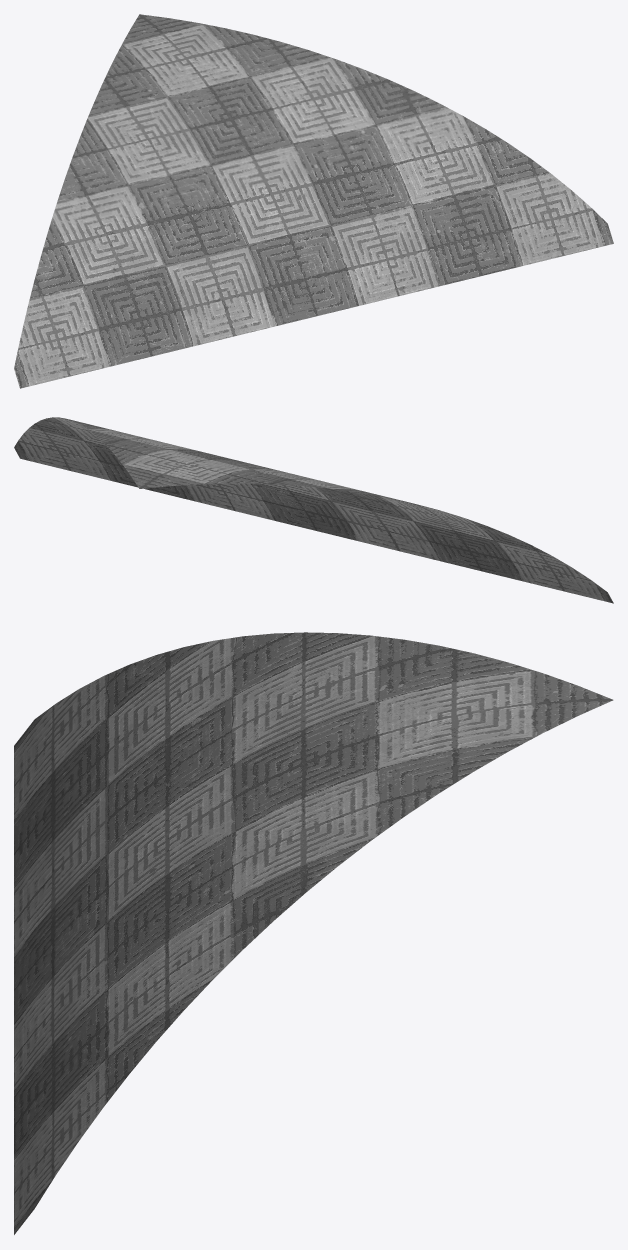
Rendered from FBX_Ceiling_Covered_Opposite.fbx.
3 renders of one model, top to bottom at view 1: azimuth 30°, elevation 25°; view 2: azimuth 150°, elevation 25°; view 3: azimuth 270°, elevation 25°, orthographic. The views are drawn at different scales.
Parts seen in each view (by area): view 1: Ceiling_Closed_Opposite; view 2: Ceiling_Closed_Opposite; view 3: Ceiling_Closed_Opposite.
Part boxes in pixels (x1,y1,x2,y2): Ceiling_Closed_Opposite: (14,14,613,388); Ceiling_Closed_Opposite: (14,417,613,603); Ceiling_Closed_Opposite: (14,632,613,1234).
Bounding box in the file's own units: 962 × 266 × 498.
